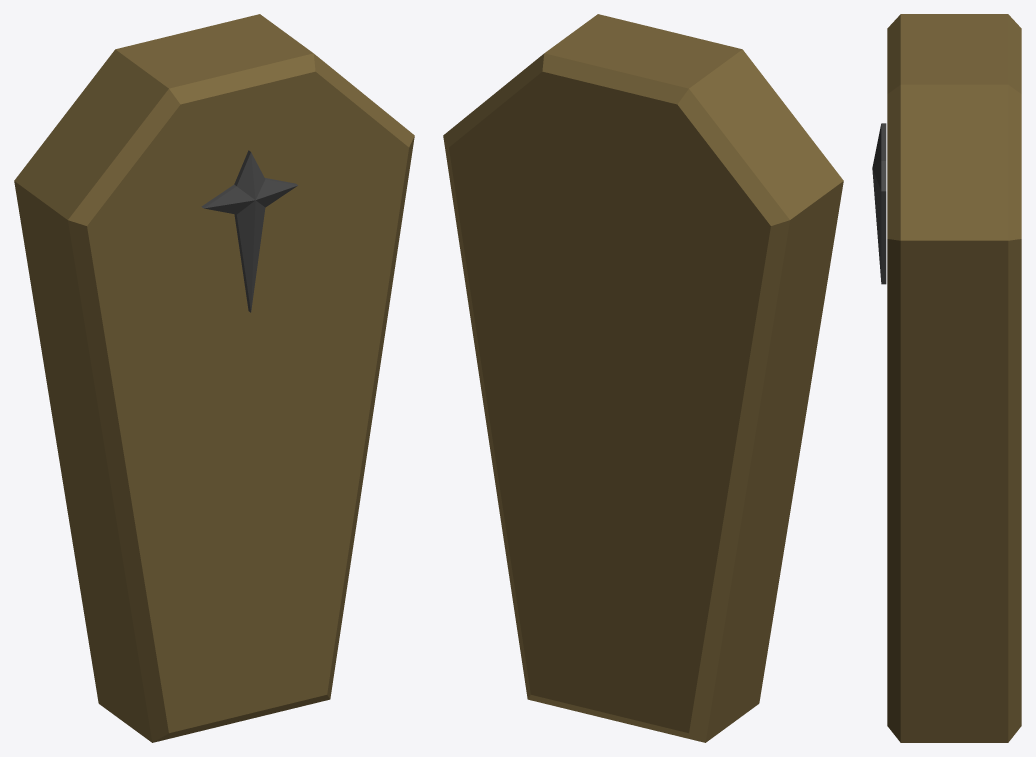
The model's file is Coffin.fbx.
The picture shows the model from 3 angles, left to right: view 1: azimuth 30°, elevation 25°; view 2: azimuth 150°, elevation 25°; view 3: azimuth 270°, elevation 25°; orthographic projection.
Parts seen in each view (by area): view 1: Coffin; view 2: Coffin; view 3: Coffin.
Boxes of the visible parts, x1,y1,x2,y2 form: Coffin: (14, 14, 414, 742); Coffin: (443, 14, 843, 742); Coffin: (872, 14, 1021, 742).
Size of the model in its own units: 1 by 1.79 by 0.3727.
